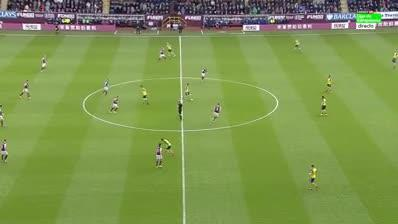player: (306, 163, 320, 191), (209, 102, 224, 127), (161, 137, 176, 157), (153, 142, 164, 169), (18, 79, 32, 100), (0, 137, 10, 166), (108, 94, 120, 116), (140, 84, 151, 108), (182, 82, 193, 103), (325, 72, 335, 95), (319, 93, 328, 118), (100, 77, 111, 97), (198, 65, 209, 84), (165, 42, 177, 59), (39, 54, 49, 74), (389, 48, 397, 72), (0, 103, 7, 130), (294, 38, 304, 54), (157, 47, 166, 64)
referree: (174, 98, 185, 122)
